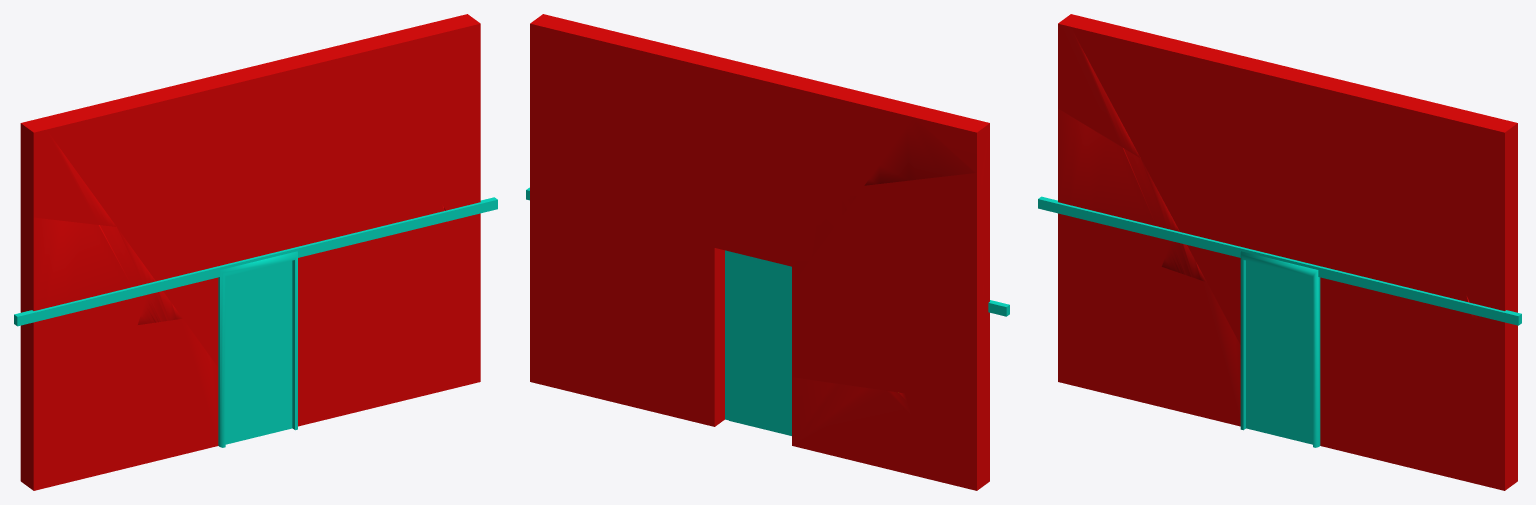
The model's file is breakablewall 1.fbx.
The picture shows the model from 3 angles, left to right: view 1: azimuth 30°, elevation 25°; view 2: azimuth 150°, elevation 25°; view 3: azimuth 330°, elevation 25°; orthographic projection.
Parts seen in each view (by area): view 1: shard9, shard16, shard10, shard17, shard19, shard6, door1, shard13, shard5, shard20, shard15, doorWall (+11 smaller); view 2: shard16, shard10, shard13, shard9, shard5, shard6, shard18, shard17, door1, shard19, shard15, shard3 (+8 smaller); view 3: shard9, shard10, shard6, shard17, shard16, shard19, door1, shard5, shard13, shard20, doorWall, shard3 (+11 smaller).
Boxes of the visible parts, left/top/right/bottom form: shard9: left=307, top=261, right=480, bottom=424; shard16: left=20, top=282, right=150, bottom=490; shard10: left=283, top=32, right=402, bottom=198; shard17: left=46, top=78, right=218, bottom=189; shard19: left=90, top=318, right=218, bottom=476; shard6: left=403, top=14, right=480, bottom=264; door1: left=225, top=260, right=292, bottom=444; shard13: left=20, top=164, right=155, bottom=310; shard5: left=296, top=196, right=360, bottom=426; shard20: left=165, top=189, right=218, bottom=366; shard15: left=20, top=107, right=116, bottom=226; doorWall: left=14, top=197, right=497, bottom=326; shard16: left=865, top=266, right=989, bottom=490; shard10: left=602, top=33, right=727, bottom=195; shard13: left=818, top=173, right=989, bottom=310; shard9: left=530, top=258, right=680, bottom=418; shard5: left=646, top=192, right=724, bottom=426; shard6: left=530, top=14, right=608, bottom=334; shard18: left=792, top=250, right=904, bottom=393; shard17: left=792, top=78, right=976, bottom=195; door1: left=729, top=251, right=791, bottom=435; shard19: left=792, top=377, right=931, bottom=479; shard15: left=864, top=117, right=989, bottom=206; shard3: left=714, top=186, right=791, bottom=266; shard9: left=1331, top=361, right=1517, bottom=490; shard10: left=1320, top=78, right=1444, bottom=256; shard6: left=1427, top=119, right=1517, bottom=433; shard17: left=1071, top=26, right=1255, bottom=170; shard16: left=1058, top=213, right=1174, bottom=395; shard19: left=1114, top=267, right=1240, bottom=426; door1: left=1246, top=260, right=1312, bottom=444; shard5: left=1320, top=218, right=1384, bottom=448; shard13: left=1058, top=109, right=1179, bottom=230; shard20: left=1189, top=147, right=1242, bottom=344; doorWall: left=1038, top=196, right=1521, bottom=325; shard3: left=1242, top=176, right=1319, bottom=265.
Size of the model in its own units: 618 by 440 by 36.26.
